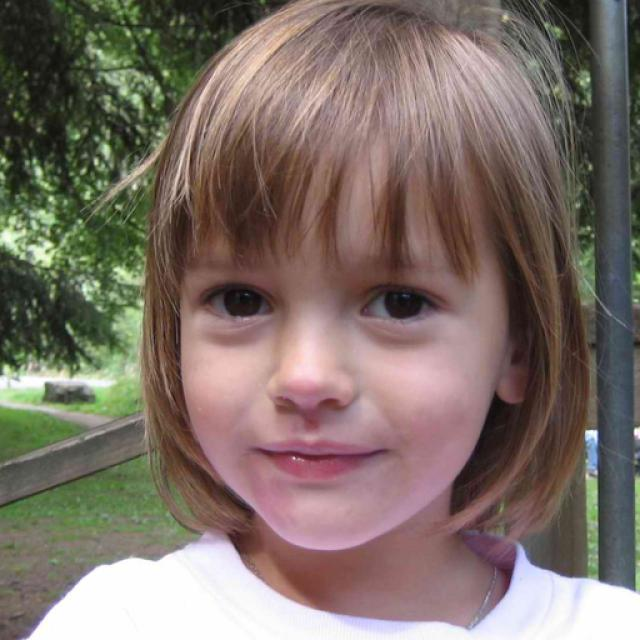happy: (178, 130, 502, 550)
